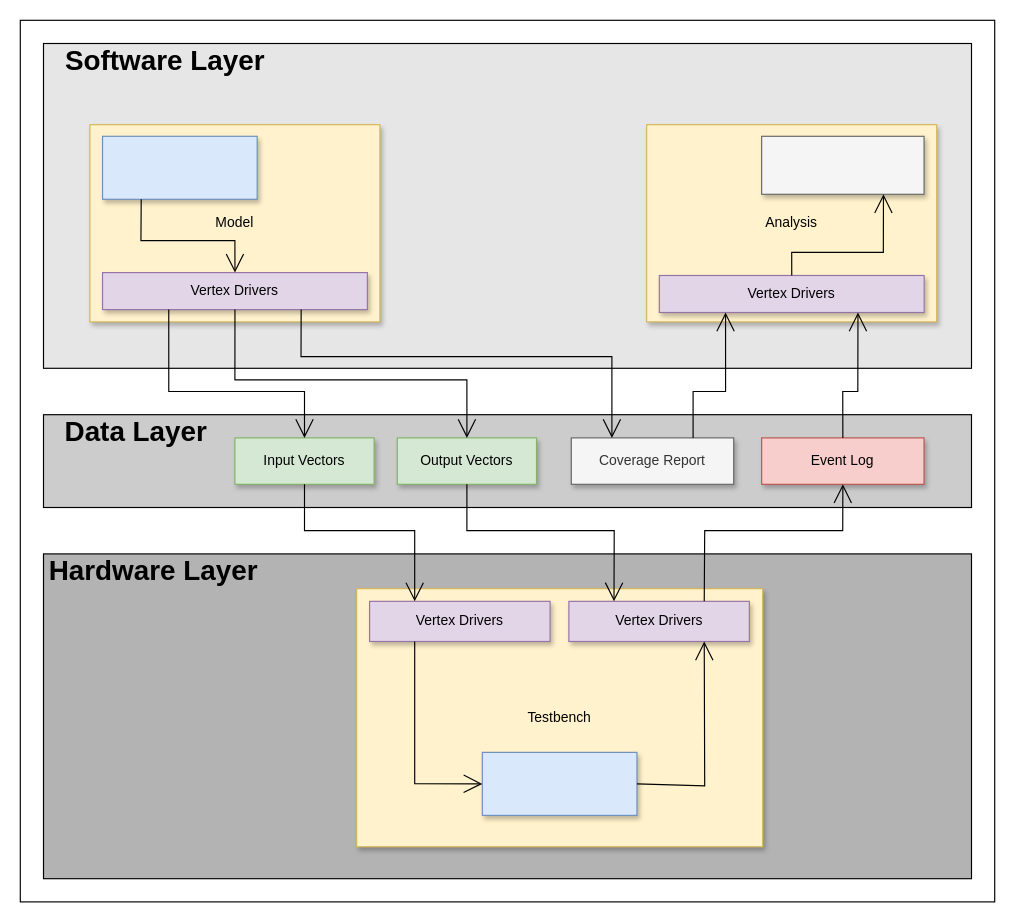
The diagram is 1015 pixels wide and 922 high, and some of its shapes have lost their labels. The shapes that lost their labels are listed below. From the top down, each one's centre as x and y in pixels, then its label:
[180,168]: Design Model
[843,166]: Outcome
[560,785]: Design Under Test
